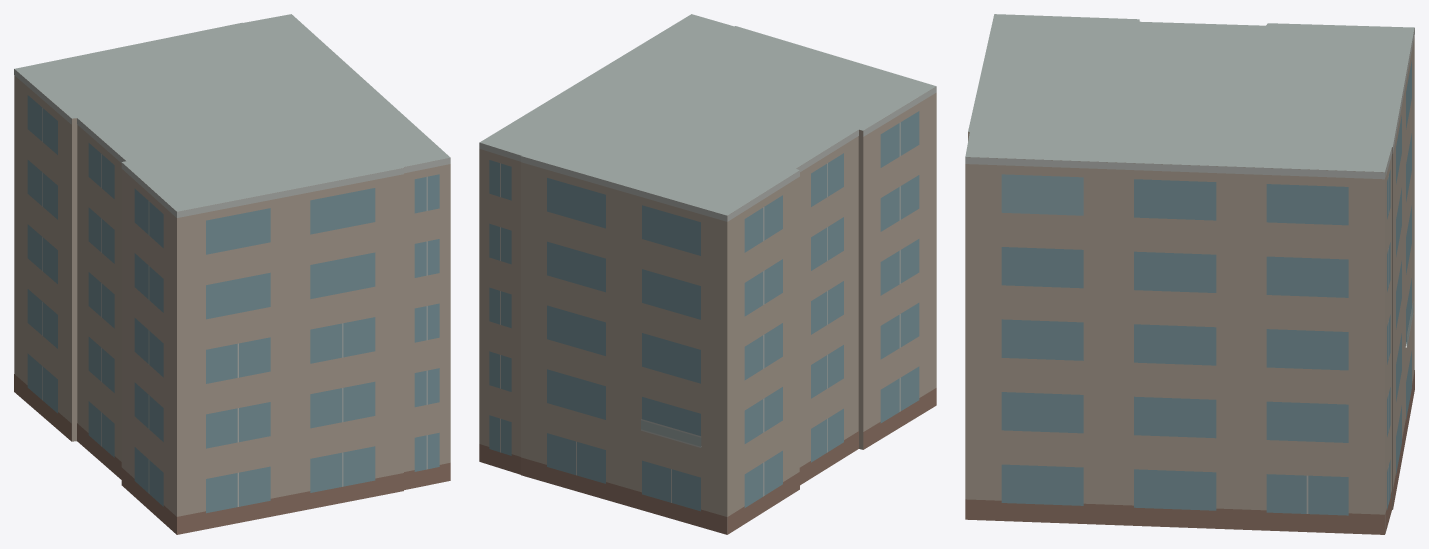
The model's file is survey-upis-32939878.glb.
3 renders of one model, left to right at view 1: azimuth 30°, elevation 25°; view 2: azimuth 150°, elevation 25°; view 3: azimuth 270°, elevation 25°, orthographic. The views are drawn at different scales.
Visible parts, largest first — view 1: survey-upis-32939878.tmp; view 2: survey-upis-32939878.tmp; view 3: survey-upis-32939878.tmp.
Part boxes in pixels (left/top/right/bottom): survey-upis-32939878.tmp: left=14, top=14, right=450, bottom=534; survey-upis-32939878.tmp: left=479, top=14, right=936, bottom=534; survey-upis-32939878.tmp: left=965, top=14, right=1414, bottom=534.
Size of the model in its own units: 11.7 by 12.5 by 14.05.
